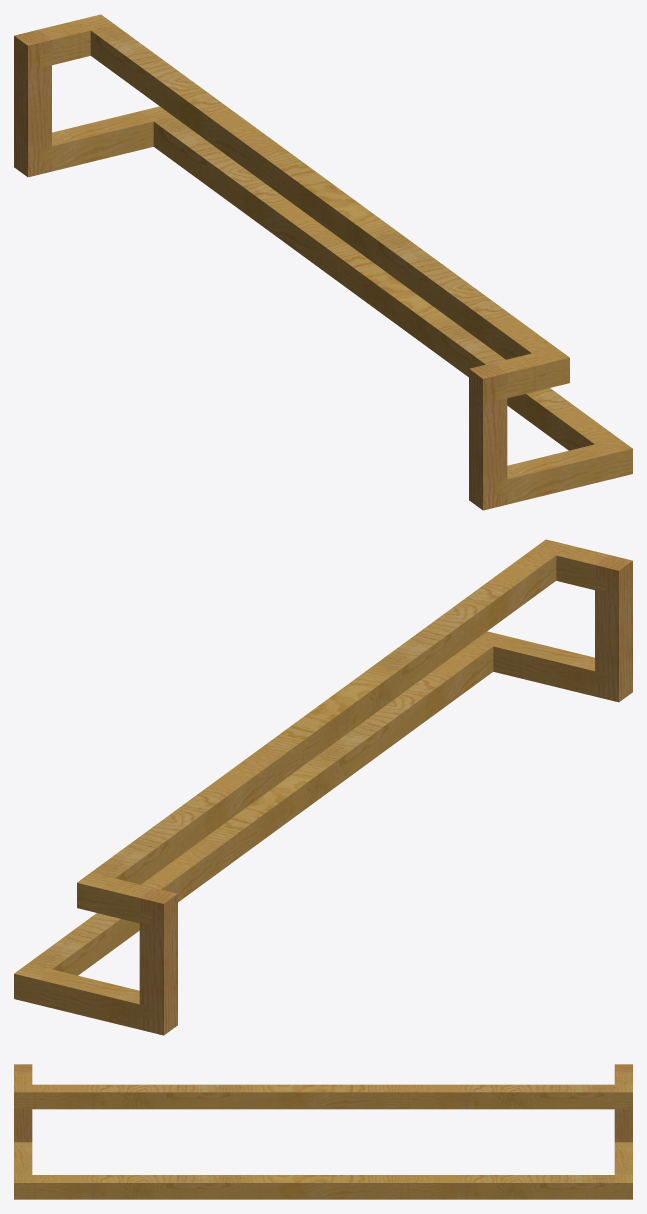
File: toallero-bano.glb
The picture shows the model from 3 angles, top to bottom: view 1: azimuth 30°, elevation 25°; view 2: azimuth 150°, elevation 25°; view 3: azimuth 270°, elevation 25°; orthographic projection. The views are drawn at different scales.
Size of the model in its own units: 0.155 by 0.13 by 0.84.
Materials: 2 (2 with a texture image).
